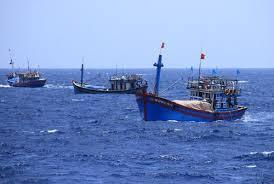Ship: (138, 56, 248, 122), (73, 65, 149, 94), (8, 49, 48, 88)
